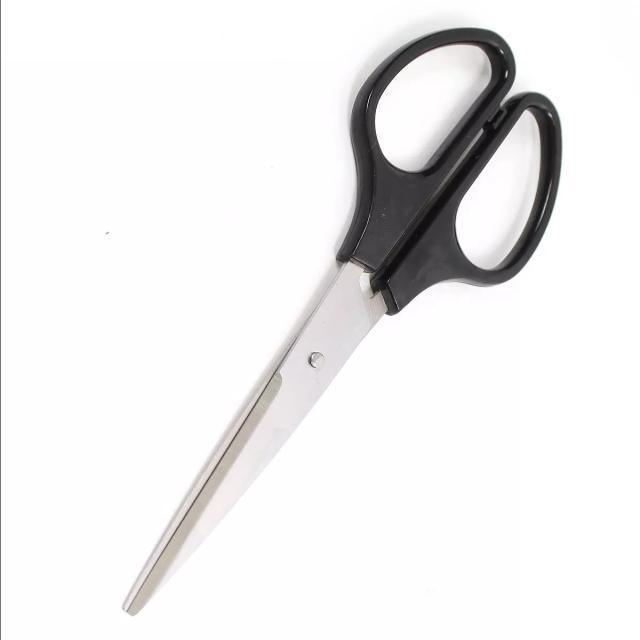scissor: (109, 24, 564, 618)
